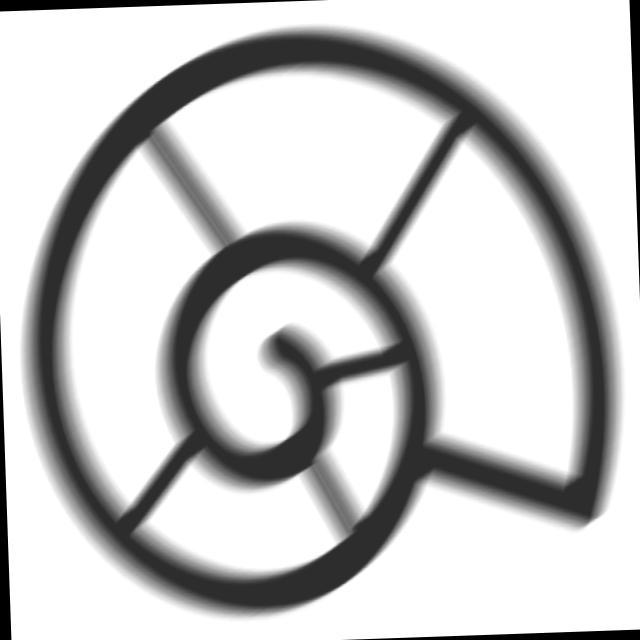fossil: (1, 4, 640, 639)
